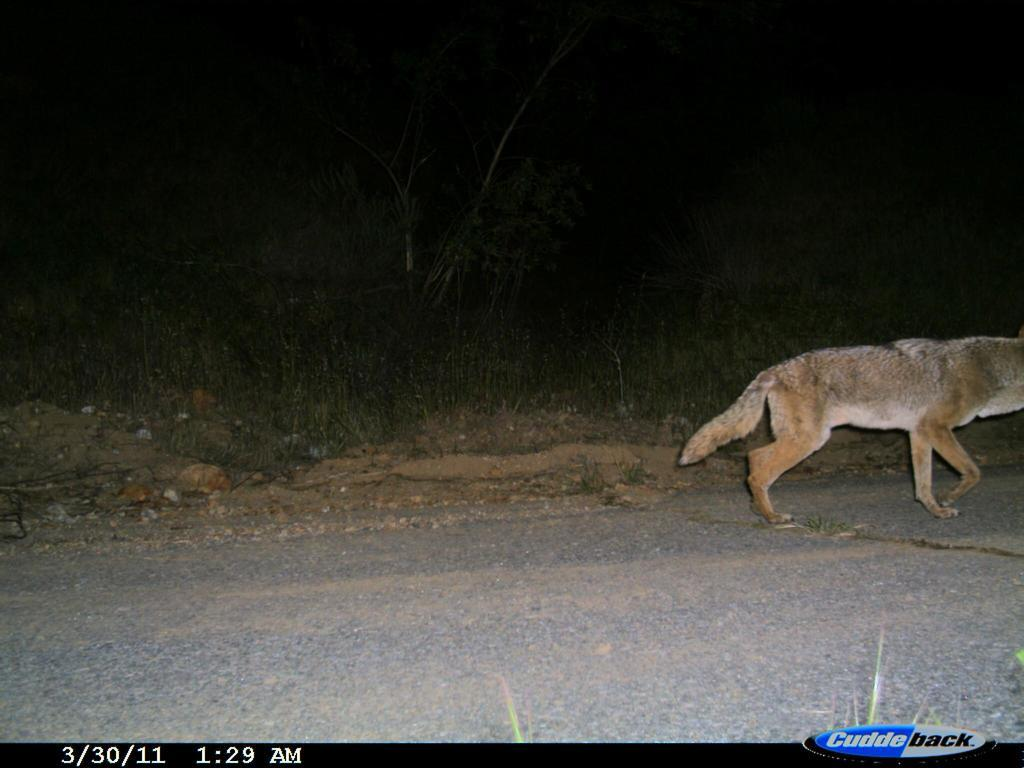coyote: (667, 317, 1023, 538)
